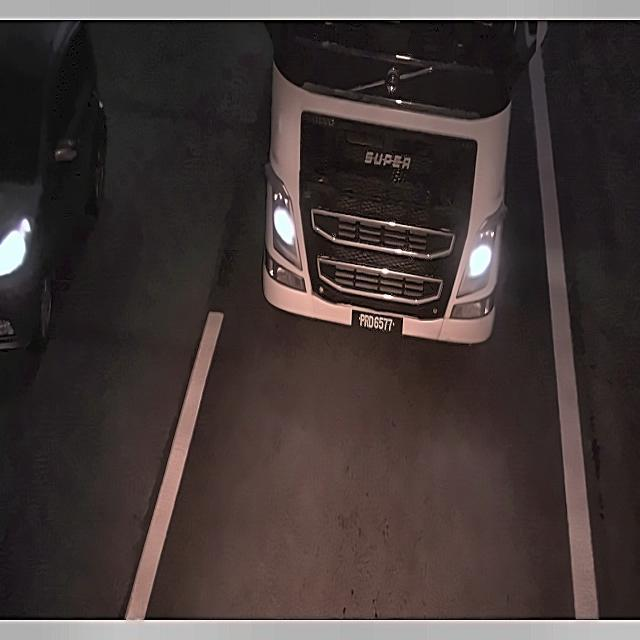car: (348, 304, 406, 339)
